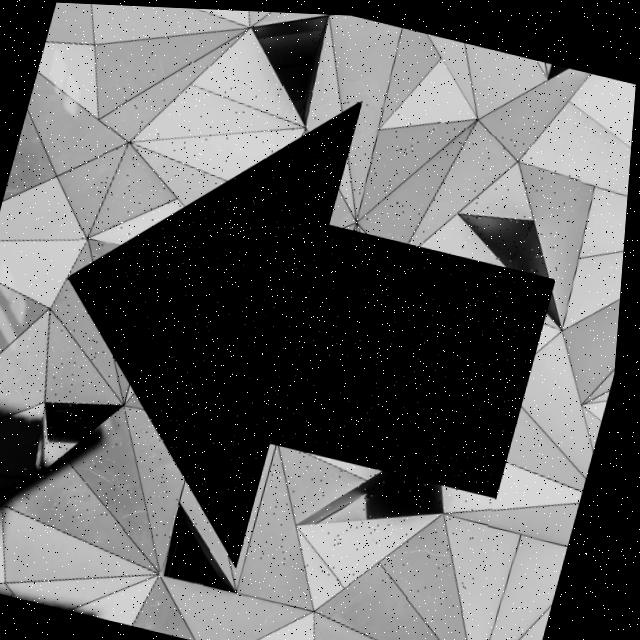LEFT: (73, 101, 557, 554), (74, 100, 556, 554)
